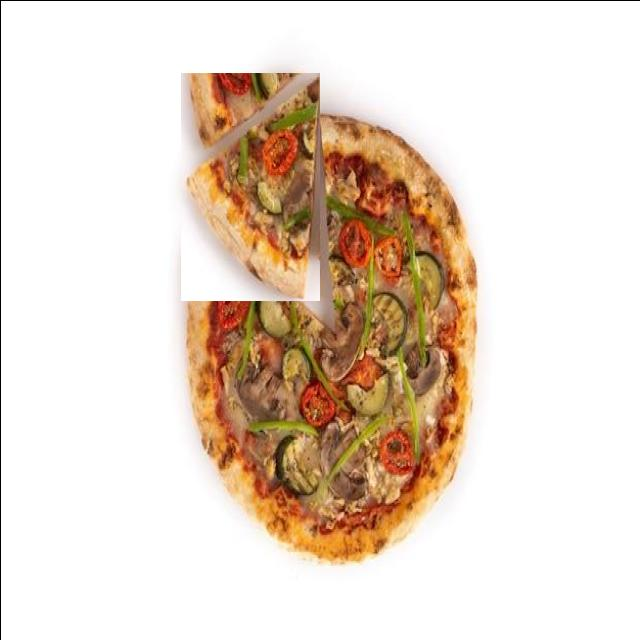pizza: (188, 112, 478, 564), (180, 72, 319, 300)
